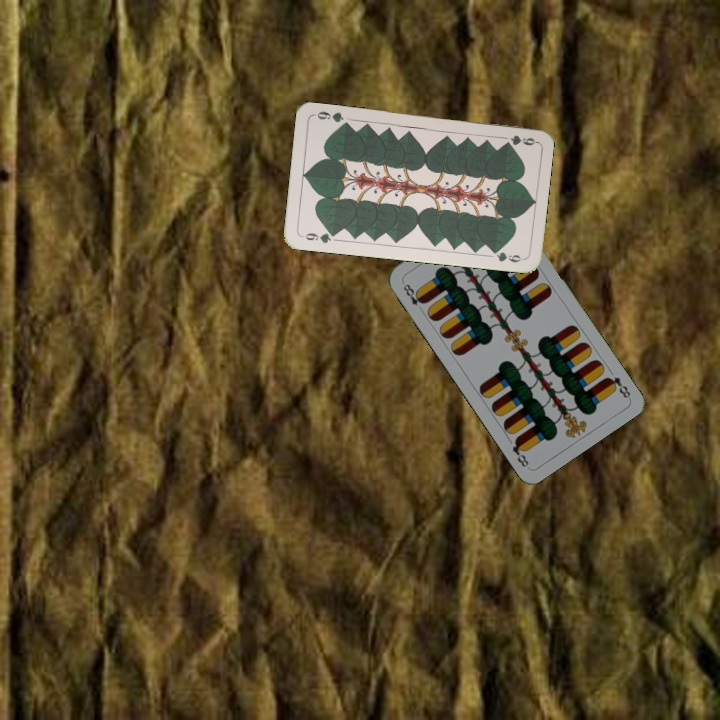E8: (398, 278, 428, 308), (602, 373, 633, 401)
G9: (298, 229, 339, 246), (507, 131, 538, 148)
